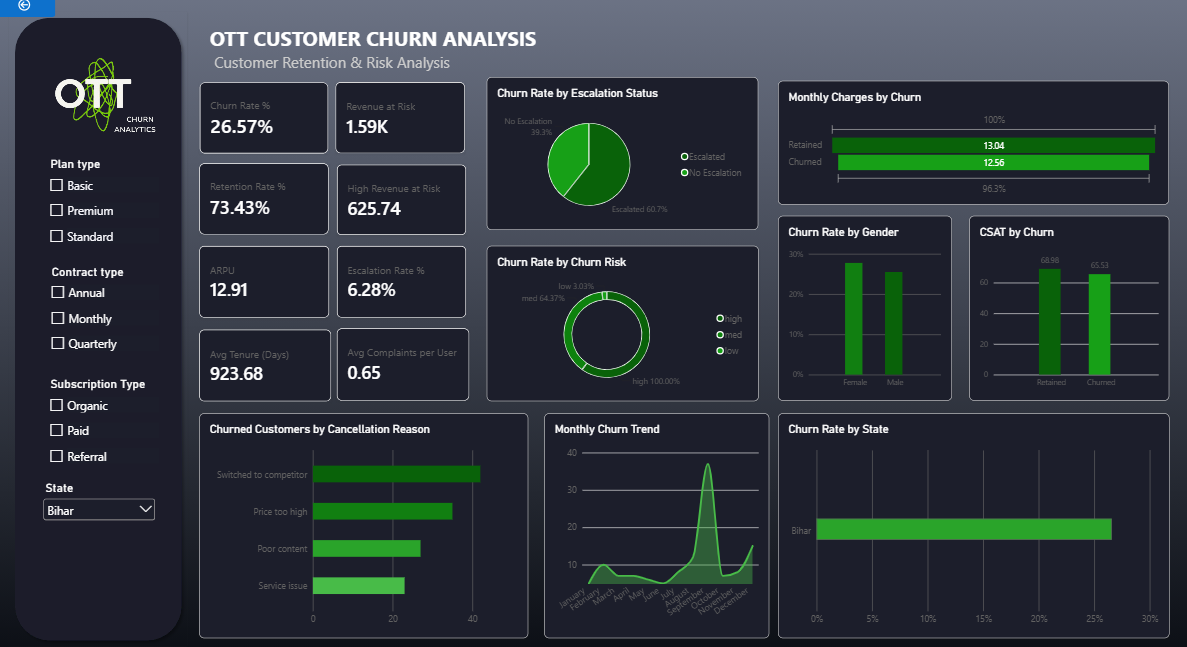

The page's visual inventory and layout, read from the dashboard file:
{"tool":"powerbi","page":{"name":"Page 1","canvas":[1920,1080],"ordinal":0},"visuals":[{"type":"shape","box":[26.7,31.7,285,1015],"z":0},{"type":"cardVisual","fields":{"Data":["db_customer.Churn Rate %"]},"box":[330,144,207.5,115],"z":2000},{"type":"cardVisual","fields":{"Data":["db_customer.Avg Tenure (Days)"]},"box":[330,540,211.4,115.7],"z":3000},{"type":"cardVisual","fields":{"Data":["db_customer.ARPU"]},"box":[330,406,208.6,115.7],"z":4000},{"type":"cardVisual","fields":{"Data":["db_customer.Escalation Rate %"]},"box":[550,405.6,207.8,115.6],"z":5000},{"type":"cardVisual","fields":{"Data":["db_customer.Revenue at Risk"]},"box":[548.9,144.4,207.8,114.4],"z":6000},{"type":"cardVisual","title":"High Risk Revenue","fields":{"Data":["db_customer.High Risk Revenue at Risk"]},"box":[550,275.6,207.8,113.3],"z":7000},{"type":"cardVisual","fields":{"Data":["db_customer.Retention Rate %"]},"box":[330,274,207.8,114.4],"z":8000},{"type":"cardVisual","fields":{"Data":["db_customer.Avg Complaints per User"]},"box":[550,538.9,212.2,116.7],"z":9000},{"type":"clusteredBarChart","title":"Churn Rate by State","fields":{"Category":["db_customer.state"],"Y":["db_customer.Churn Rate %"]},"box":[1256,674,626,360],"z":12000},{"type":"clusteredBarChart","title":"Churned Customers by Cancellation Reason","fields":{"Category":["db_subscription.cancellation_reason"],"Y":["Sum(db_subscription.Churn Flag)"]},"box":[330,674,526,360],"z":13000},{"type":"clusteredColumnChart","title":"Churn Rate by Gender","fields":{"Category":["db_customer.gender"],"Y":["db_customer.Churn Rate %"]},"box":[1256,358,278,296],"z":14000},{"type":"funnel","title":"Monthly Charges by Churn","fields":{"Category":["db_subscription.Churn Status"],"Y":["Avg(db_subscription.monthly_charges)"]},"box":[1256.5,142.2,625.5,198.8],"z":15000},{"type":"clusteredColumnChart","title":"CSAT by Churn","fields":{"Category":["db_subscription.Churn Status"],"Y":["Avg(db_support.csat_score)"]},"box":[1562,358,320,296],"z":16000},{"type":"pieChart","title":"Churn Rate by Escalation Status","fields":{"Category":["db_support.Escalation Status"],"Y":["Avg(db_support.Customer Churn Flag)"]},"box":[790,136.7,434.4,244.4],"z":17000},{"type":"actionButton","box":[0,0,100,40],"z":18000},{"type":"donutChart","title":"Churn Rate by Churn Risk","fields":{"Category":["db_subscription.Churn Risk"],"Y":["db_customer.Churn Rate %"]},"box":[790,405.6,435.6,248.9],"z":19000},{"type":"areaChart","title":"Monthly Churn Trend","fields":{"Category":["db_subscription.cancellation_date.Variation.Date Hierarchy.Month"],"Y":["Sum(db_subscription.Churn Flag)"]},"box":[882,674,360,360],"z":20000},{"type":"textbox","box":[346,52,524,80],"z":21000},{"type":"textbox","box":[353.3,95,436.7,93.3],"z":22000},{"type":"slicer","fields":{"Values":["db_subscription.plan_type"]},"box":[83.3,263.3,181.7,148.3],"z":23000},{"type":"slicer","fields":{"Values":["db_subscription.contract_type"]},"box":[85,436.7,180,150],"z":24000},{"type":"slicer","fields":{"Values":["db_customer.state"]},"box":[76.7,781.7,188.3,150],"z":25000},{"type":"slicer","fields":{"Values":["db_subscription.Subscription Type Clean"]},"box":[83.3,615,181.7,150],"z":26000},{"type":"image","box":[16.7,20,295,288.3],"z":27000}]}

Visuals, with their boxes in screenshot pixels (x1, y1, x2, y2):
shape: left=19, top=16, right=194, bottom=637
cardVisual - db_customer.Churn Rate %: left=205, top=85, right=332, bottom=155
cardVisual - db_customer.Avg Tenure (Days): left=205, top=327, right=334, bottom=398
cardVisual - db_customer.ARPU: left=205, top=245, right=333, bottom=316
cardVisual - db_customer.Escalation Rate %: left=339, top=245, right=467, bottom=316
cardVisual - db_customer.Revenue at Risk: left=339, top=85, right=466, bottom=155
"High Risk Revenue" cardVisual: left=339, top=165, right=467, bottom=235
cardVisual - db_customer.Retention Rate %: left=205, top=164, right=332, bottom=234
cardVisual - db_customer.Avg Complaints per User: left=339, top=327, right=469, bottom=398
"Churn Rate by State" clusteredBarChart: left=771, top=409, right=1154, bottom=629
"Churned Customers by Cancellation Reason" clusteredBarChart: left=205, top=409, right=527, bottom=629
"Churn Rate by Gender" clusteredColumnChart: left=771, top=216, right=941, bottom=397
"Monthly Charges by Churn" funnel: left=772, top=84, right=1154, bottom=205
"CSAT by Churn" clusteredColumnChart: left=958, top=216, right=1154, bottom=397
"Churn Rate by Escalation Status" pieChart: left=486, top=81, right=752, bottom=230
actionButton: left=3, top=0, right=64, bottom=21
"Churn Rate by Churn Risk" donutChart: left=486, top=245, right=753, bottom=397
"Monthly Churn Trend" areaChart: left=543, top=409, right=763, bottom=629
textbox: left=215, top=29, right=535, bottom=78
textbox: left=219, top=55, right=486, bottom=112
slicer - db_subscription.plan_type: left=54, top=158, right=165, bottom=249
slicer - db_subscription.contract_type: left=55, top=264, right=165, bottom=356
slicer - db_customer.state: left=50, top=475, right=165, bottom=567
slicer - db_subscription.Subscription Type Clean: left=54, top=373, right=165, bottom=465
image: left=13, top=9, right=194, bottom=185
